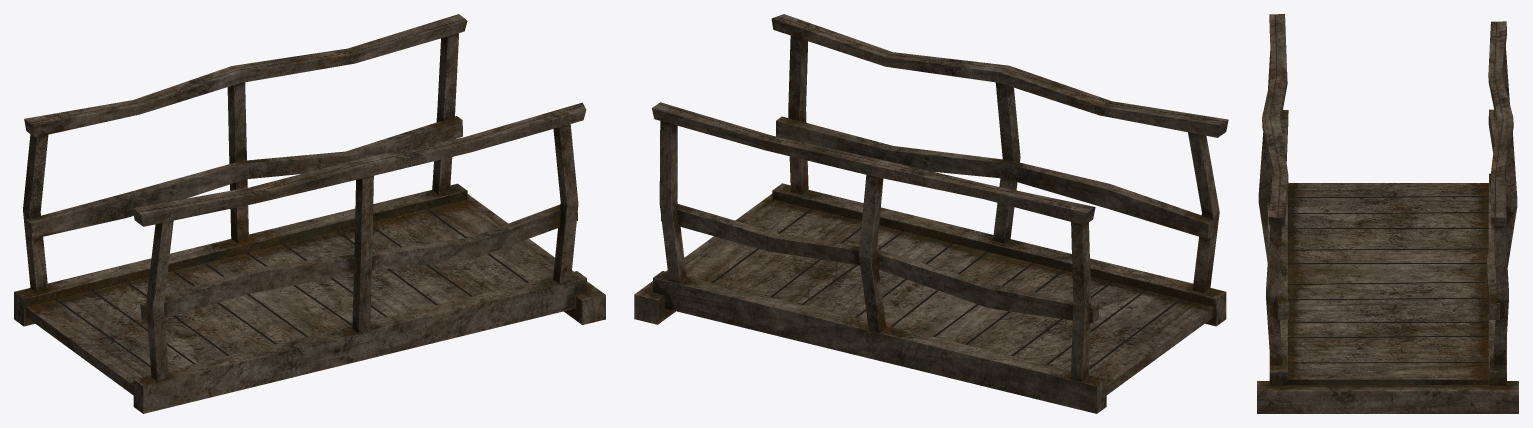
Rendered from forest_wooden_path-bridge_tile.glb.
The picture shows the model from 3 angles, left to right: view 1: azimuth 30°, elevation 25°; view 2: azimuth 150°, elevation 25°; view 3: azimuth 270°, elevation 25°; orthographic projection. The views are drawn at different scales.
Visible parts, largest first — view 1: Cube.002; view 2: Cube.002; view 3: Cube.002.
Boxes of the visible parts, x1,y1,x2,y2 form: Cube.002: (14, 14, 605, 413); Cube.002: (634, 14, 1228, 413); Cube.002: (1257, 14, 1518, 413).
Bounding box in the file's own units: 2.07 × 0.9132 × 1.11.
1 material, 1 textured.
